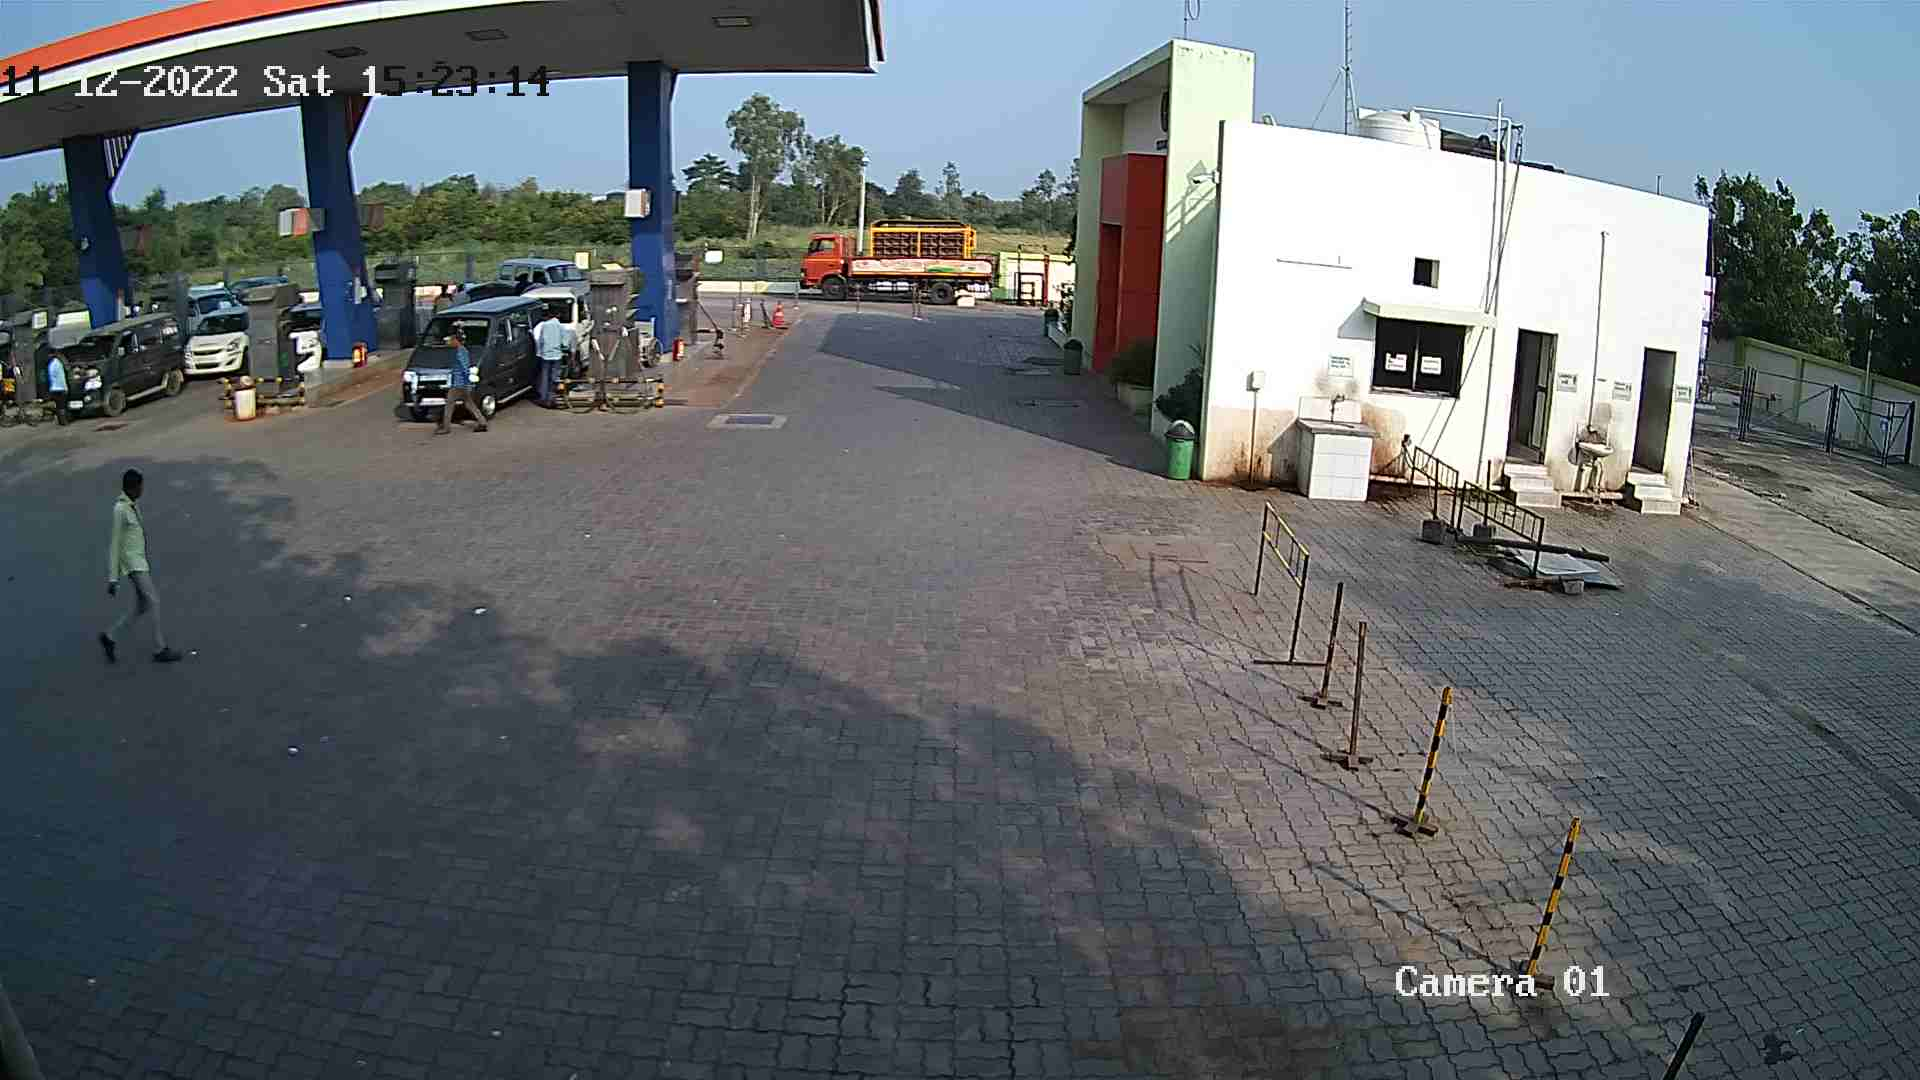Car: (389, 276, 543, 429), (46, 305, 190, 427), (509, 269, 596, 389), (177, 302, 257, 386), (278, 291, 335, 393), (488, 253, 593, 306), (178, 284, 243, 339), (223, 266, 272, 318)
HMV: (793, 210, 1010, 306)
